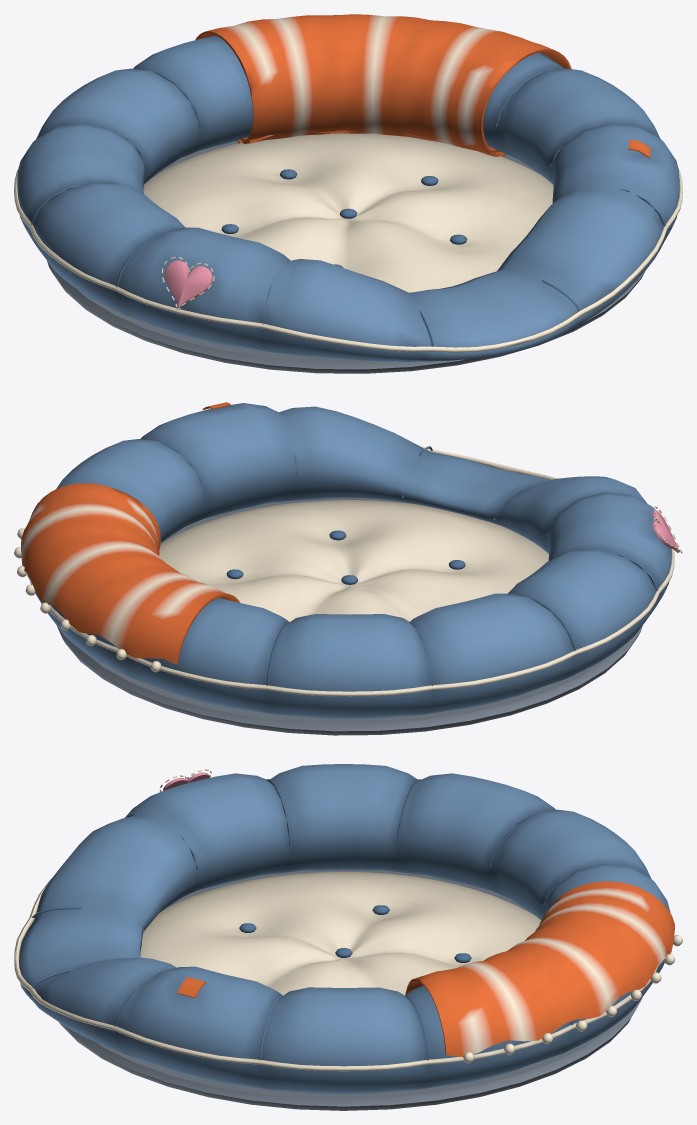
The model's file is bed.glb.
The picture shows the model from 3 angles, top to bottom: view 1: azimuth 30°, elevation 25°; view 2: azimuth 150°, elevation 25°; view 3: azimuth 270°, elevation 25°; orthographic projection. The views are drawn at different scales.
Parts seen in each view (by area): view 1: Bed; view 2: Bed; view 3: Bed.
Boxes of the visible parts, box(x1,y1,x2,y2) form: Bed: box(14, 14, 682, 373); Bed: box(14, 402, 682, 735); Bed: box(14, 764, 682, 1110).
Bounding box in the file's own units: 0.8586 × 0.161 × 0.8708.
